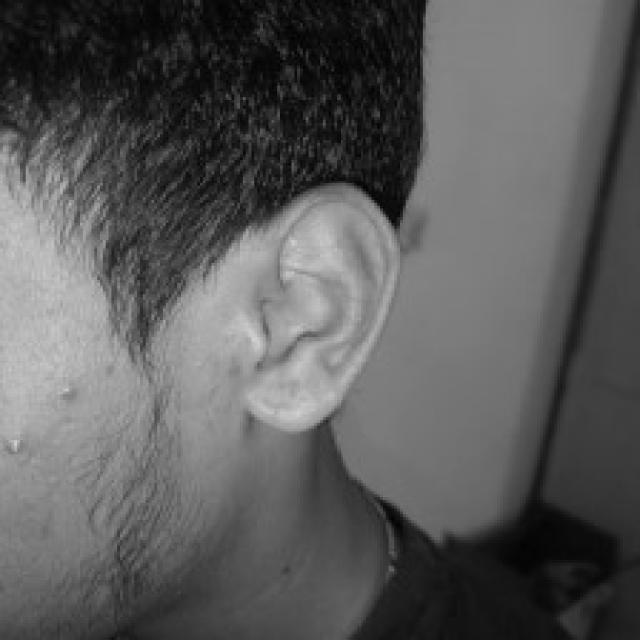ear: (246, 180, 397, 431)
